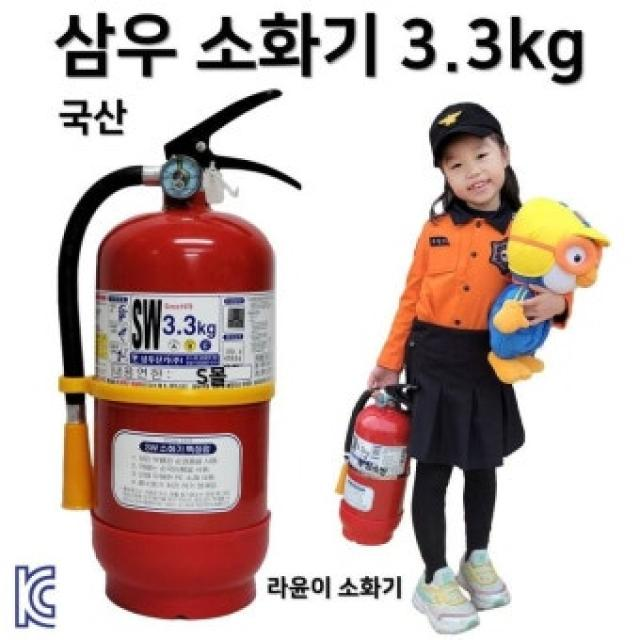pressure gauge: (160, 155, 201, 199), (375, 390, 389, 408)
